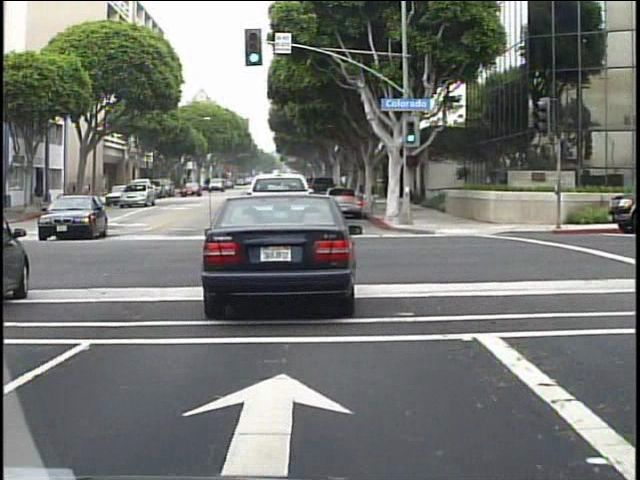person: (35, 180, 46, 212)
